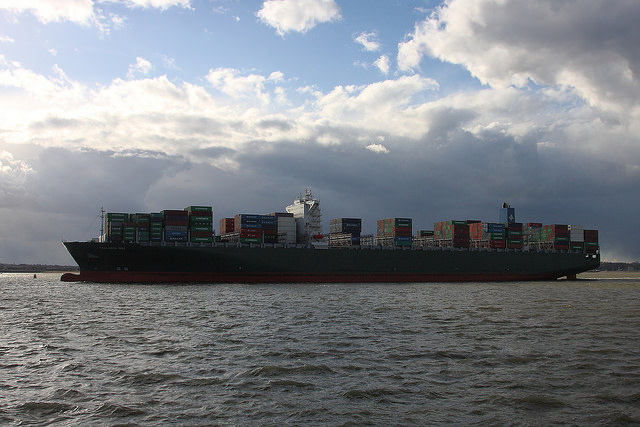container_ship: (63, 185, 603, 283)
